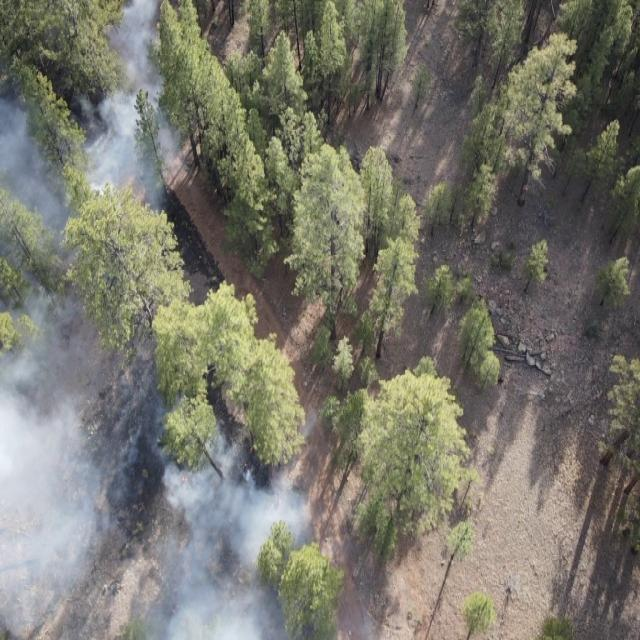fire: (180, 472, 188, 486)
smoke: (0, 199, 162, 640), (161, 402, 332, 640), (0, 2, 193, 199)
